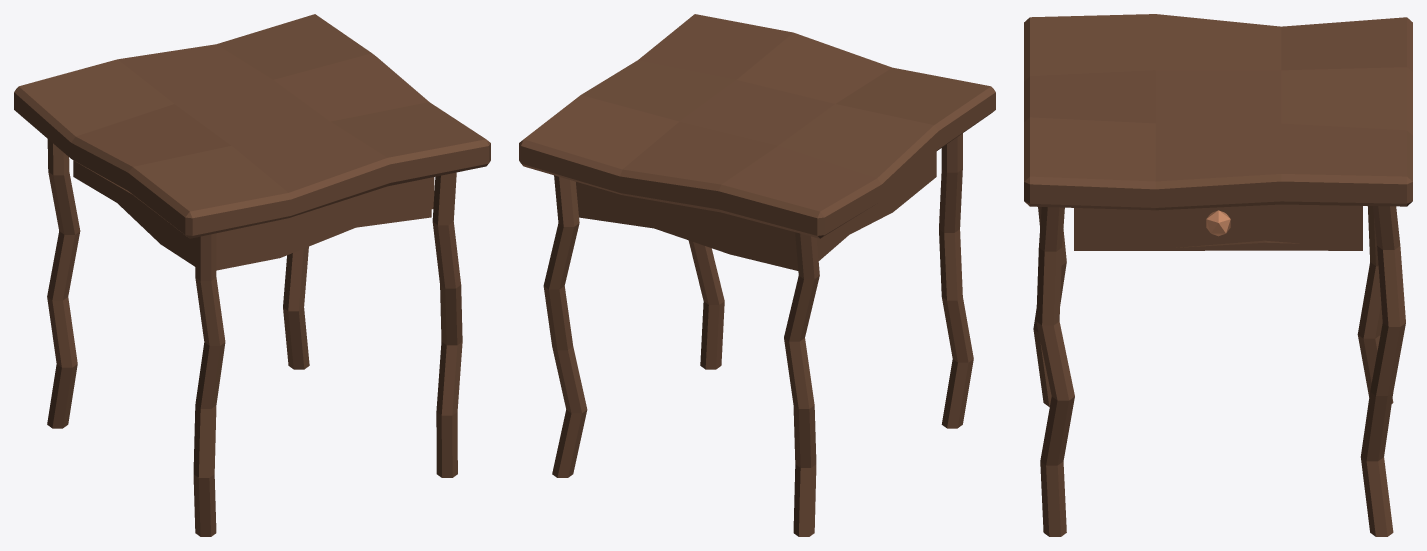
The model's file is table_small_1.fbx.
The picture shows the model from 3 angles, left to right: view 1: azimuth 30°, elevation 25°; view 2: azimuth 150°, elevation 25°; view 3: azimuth 270°, elevation 25°; orthographic projection. The views are drawn at different scales.
Parts seen in each view (by area): view 1: Table, Leg.003, Leg.002, Leg.001, Leg; view 2: Table, Leg.001, Leg, Leg.002, Leg.003; view 3: Table, Leg, Leg.003, Leg.001, Leg.002, Icosphere.
Boxes of the visible parts, x1=… form: Table: x1=14, y1=14, x2=490, y2=270; Leg.003: x1=432, y1=172, x2=462, y2=477; Leg.002: x1=193, y1=233, x2=225, y2=536; Leg.001: x1=47, y1=139, x2=80, y2=428; Leg: x1=283, y1=246, x2=309, y2=369; Table: x1=519, y1=14, x2=995, y2=270; Leg.001: x1=784, y1=232, x2=819, y2=536; Leg: x1=543, y1=175, x2=587, y2=477; Leg.002: x1=939, y1=133, x2=973, y2=428; Leg.003: x1=688, y1=240, x2=724, y2=369; Table: x1=1024, y1=14, x2=1412, y2=250; Leg: x1=1360, y1=206, x2=1405, y2=536; Leg.003: x1=1036, y1=207, x2=1074, y2=536; Leg.001: x1=1357, y1=206, x2=1393, y2=403; Leg.002: x1=1033, y1=207, x2=1066, y2=406; Icosphere: x1=1206, y1=210, x2=1230, y2=236.
Bounding box in the file's own units: 200 × 214 × 200.
